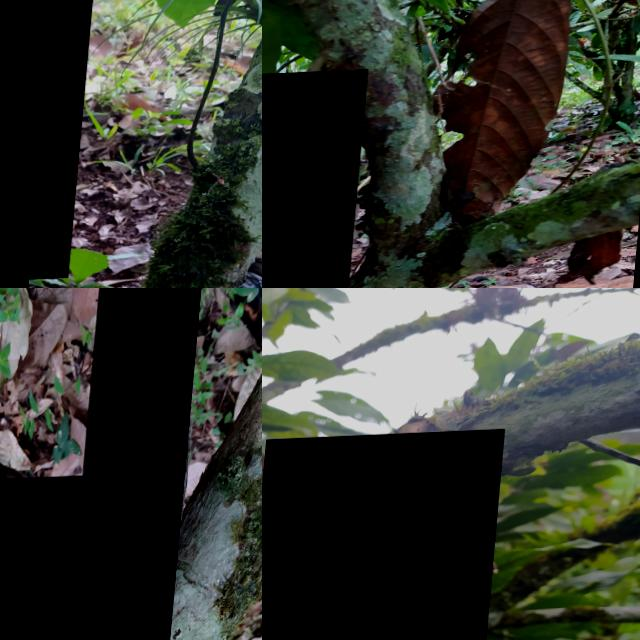Fitoftora: (74, 288, 203, 640), (262, 72, 369, 288)
Monilia: (262, 433, 508, 640)
Sana: (0, 0, 98, 288), (0, 477, 114, 640)
